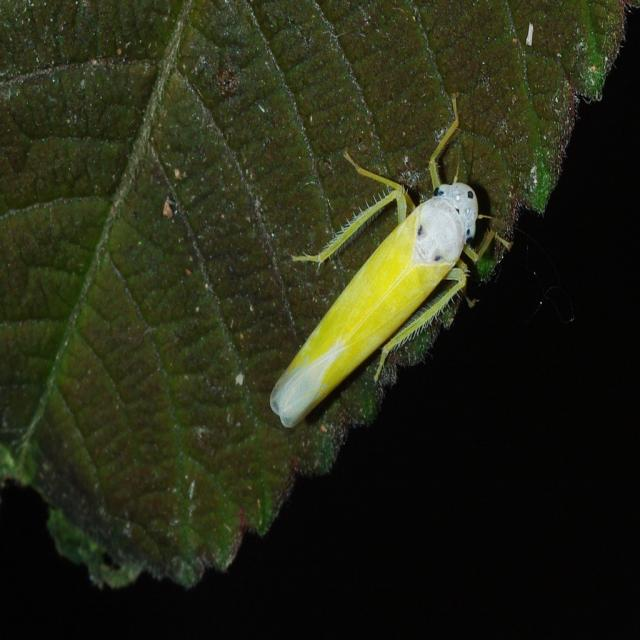Yechan: (260, 113, 526, 442)
